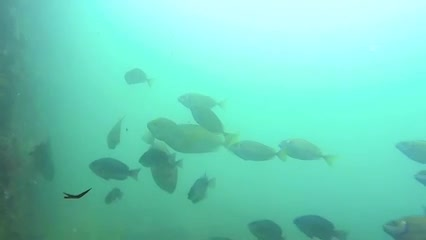azi: (273, 130, 333, 162), (229, 138, 294, 165)
smallfish: (85, 151, 149, 188), (290, 208, 344, 240)
